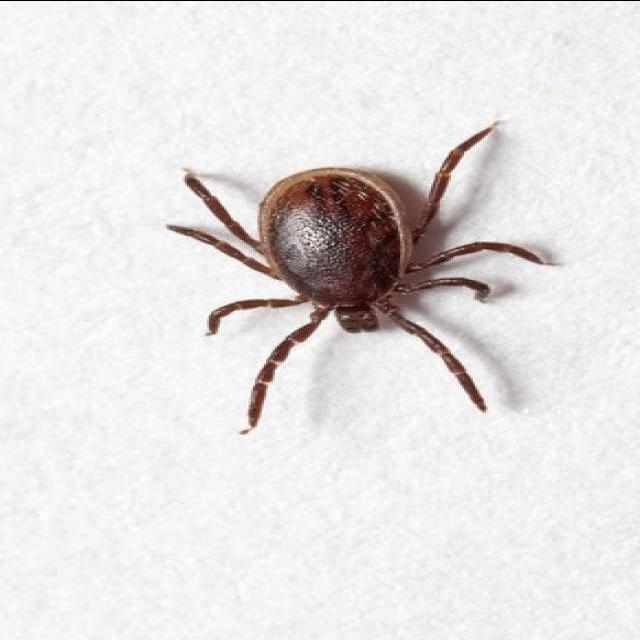Ixodes Ricinus-M: (167, 125, 559, 436)
